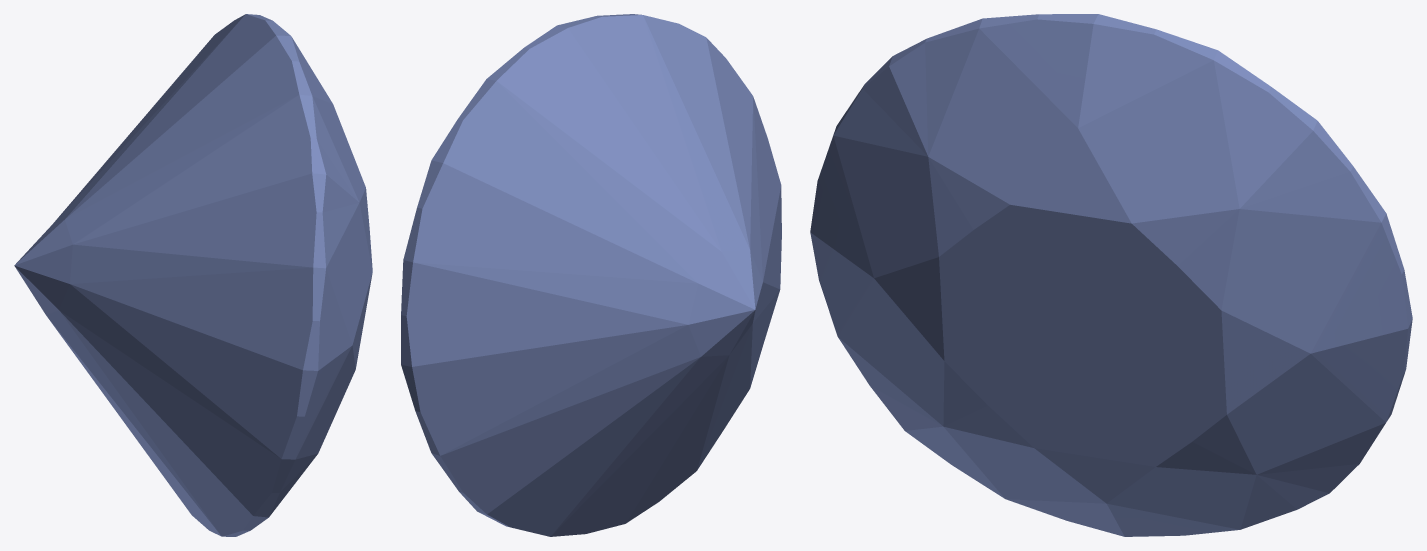
File: TR5_8shapes_Round_Classic_Stone.001 2.glb
3 views of the same model, side by side, from view 1: azimuth 30°, elevation 25°; view 2: azimuth 150°, elevation 25°; view 3: azimuth 270°, elevation 25° (orthographic). The views are drawn at different scales.
Visible parts, largest first — view 1: TR5_8shapes_Round_Classic_Stone.001; view 2: TR5_8shapes_Round_Classic_Stone.001; view 3: TR5_8shapes_Round_Classic_Stone.001.
Boxes of the visible parts, <box> form: TR5_8shapes_Round_Classic_Stone.001: <box>14,14,372,536</box>; TR5_8shapes_Round_Classic_Stone.001: <box>401,14,781,536</box>; TR5_8shapes_Round_Classic_Stone.001: <box>810,14,1412,536</box>.
Bounding box in the file's own units: 0.3366 × 0.4957 × 0.4866.
